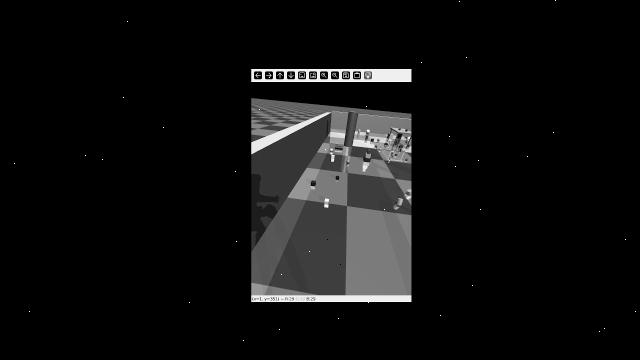cilindro: (344, 110, 358, 147), (395, 195, 404, 208), (356, 128, 362, 141), (405, 187, 412, 197), (333, 145, 344, 150), (396, 132, 403, 139), (388, 156, 393, 162), (365, 134, 368, 140), (398, 149, 403, 152), (389, 140, 391, 147), (375, 145, 377, 148)
cuadrado: (323, 197, 332, 207), (308, 179, 319, 187), (365, 151, 372, 159), (330, 154, 337, 161), (387, 132, 394, 139), (398, 144, 405, 148), (370, 137, 375, 142), (367, 150, 372, 154), (406, 129, 409, 132), (380, 145, 383, 148), (390, 155, 394, 157), (395, 154, 398, 156)
esfera: (334, 173, 341, 181), (365, 129, 370, 135), (329, 147, 333, 153), (346, 160, 351, 164), (375, 137, 380, 141), (408, 136, 412, 140), (406, 158, 409, 162), (378, 148, 382, 151), (384, 145, 388, 148), (390, 151, 393, 154), (404, 136, 407, 139), (398, 127, 400, 131), (408, 144, 410, 148)
rectangulo: (362, 157, 373, 162)
